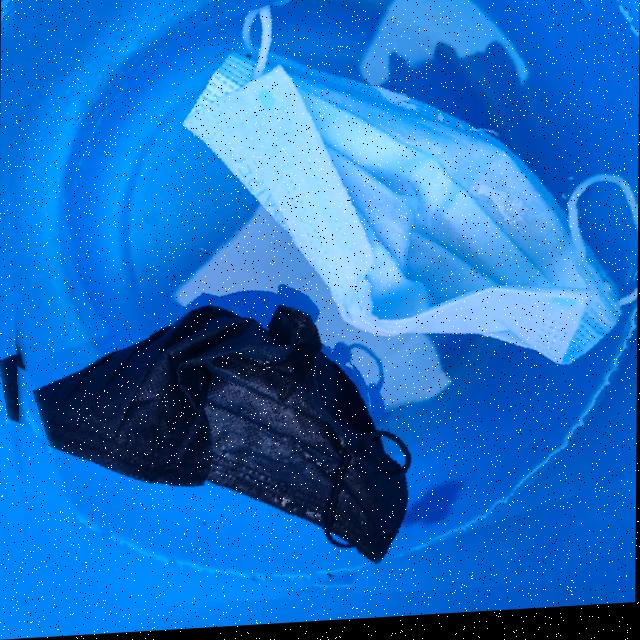mask: (0, 0, 640, 616), (208, 0, 640, 485), (0, 219, 368, 604)
